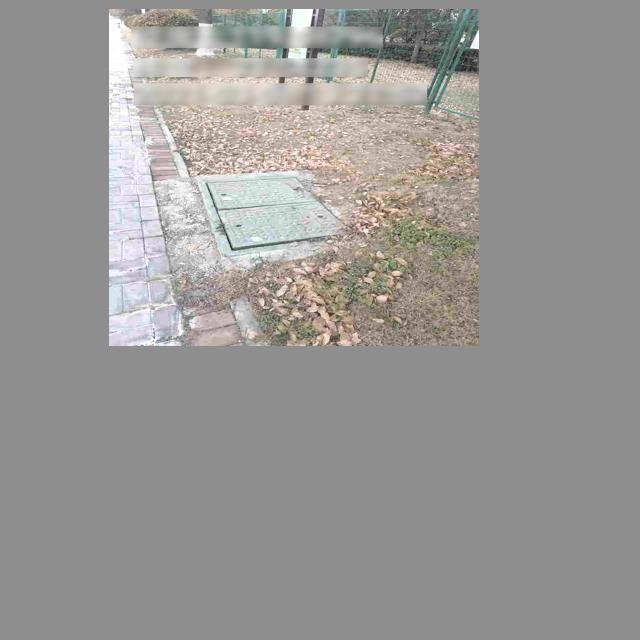good: (196, 175, 359, 251)
